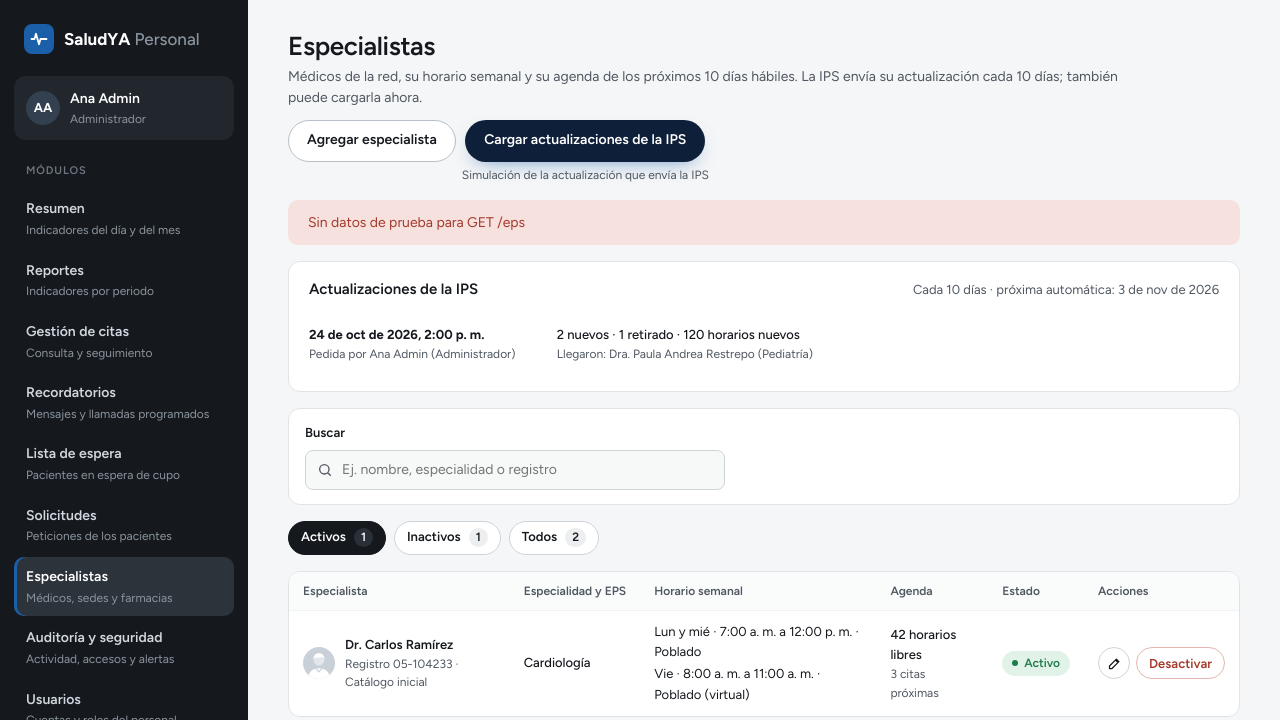
Test: Especialistas › cambia el horario y desactiva con confirmación
This screenshot has width=1280, height=720.
Click the button named "Cambiar el horario de Dr. Carlos Ramírez" at (1114, 663), box [1098,647,1130,679]
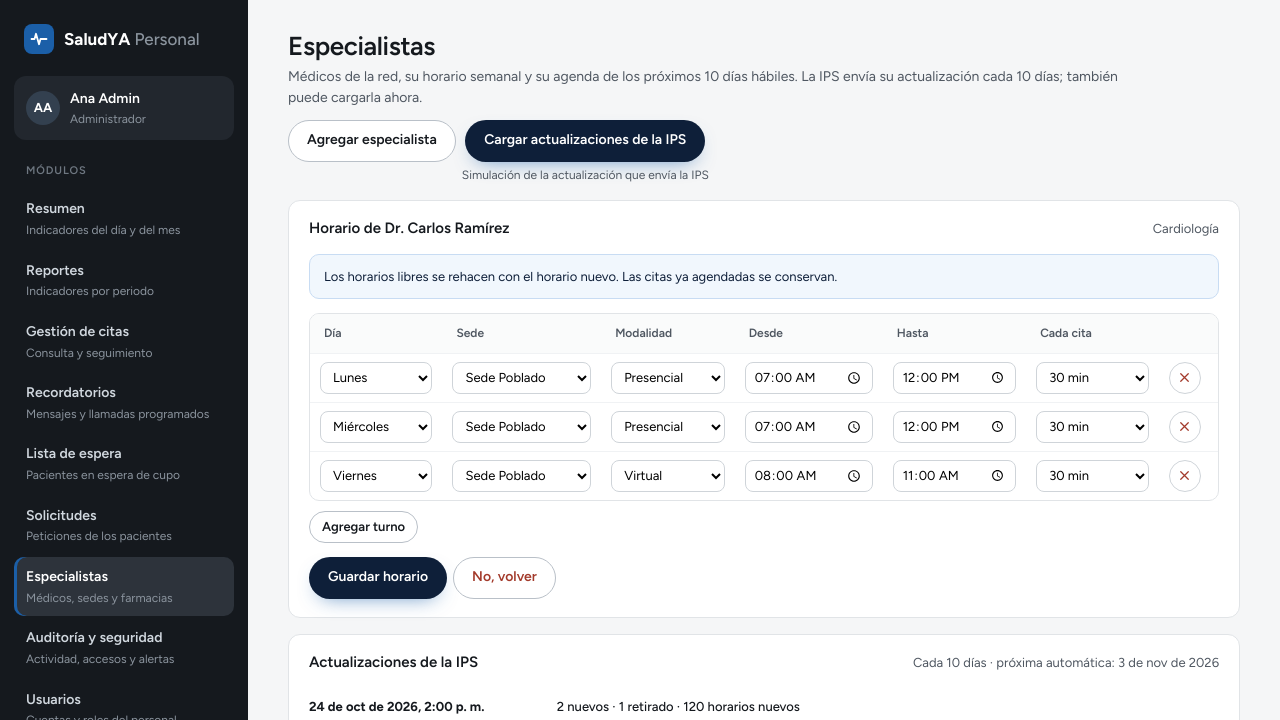
Result: the text "Las citas ya agendadas se conservan" is shown at [324,269,837,284]
Click the button named "Quitar el turno 3" at (1185, 476), box [1169,460,1201,492]
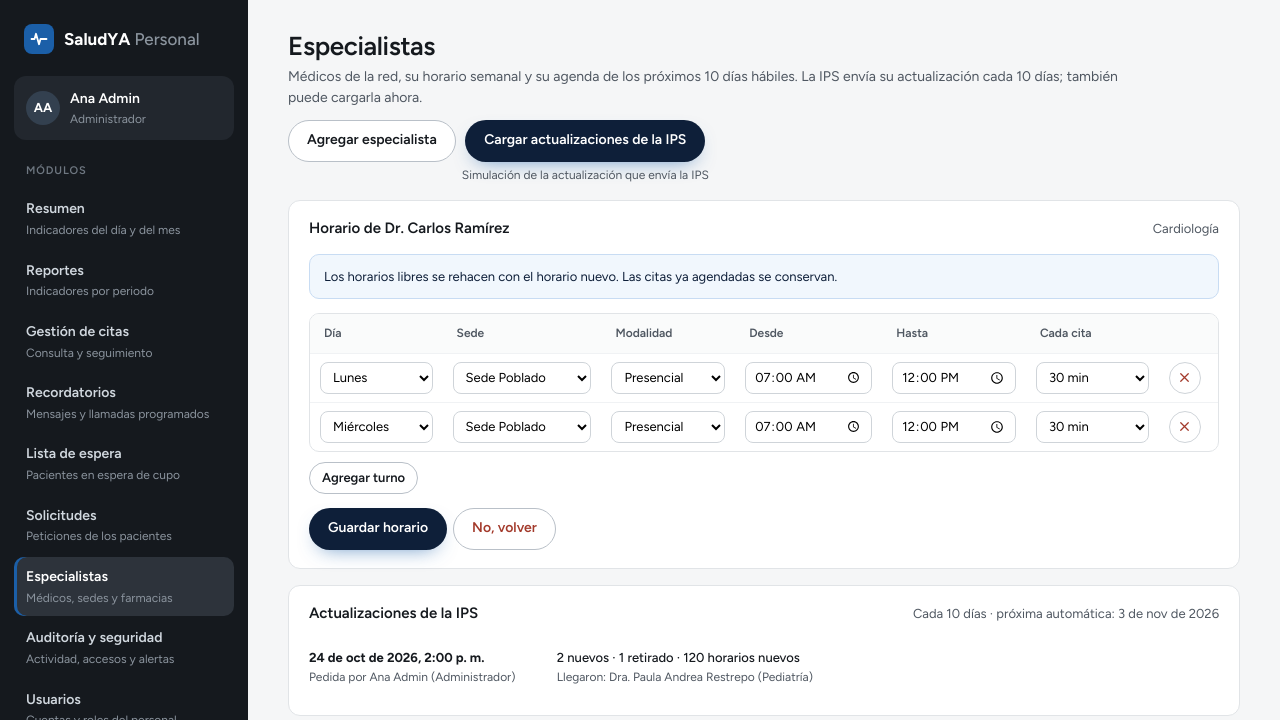
Click the button "Guardar horario" at (378, 529), box [309,508,447,550]
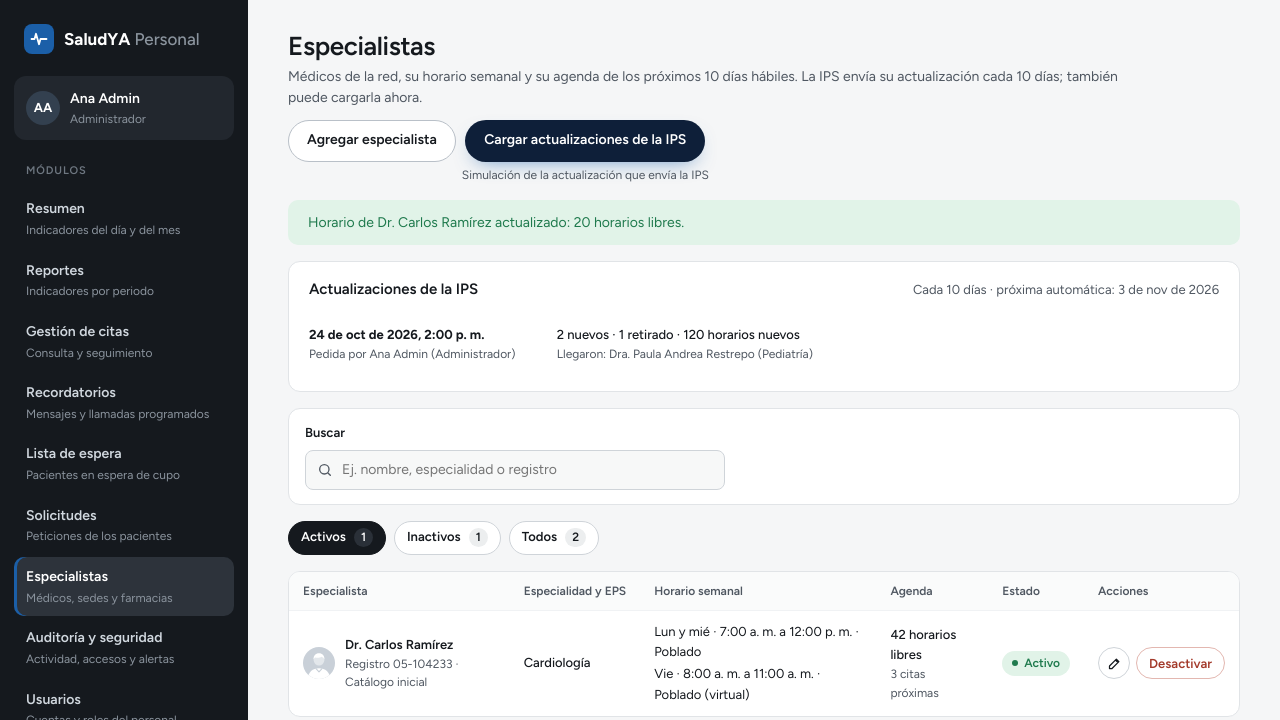
Result: the text "Horario de Dr. Carlos Ramírez actualizado: 20 horarios libres." is shown at [288,200,1240,246]
Click the button with aria-label "Desactivar a Dr. Carlos Ramírez" at (1181, 663), box [1136,647,1225,679]
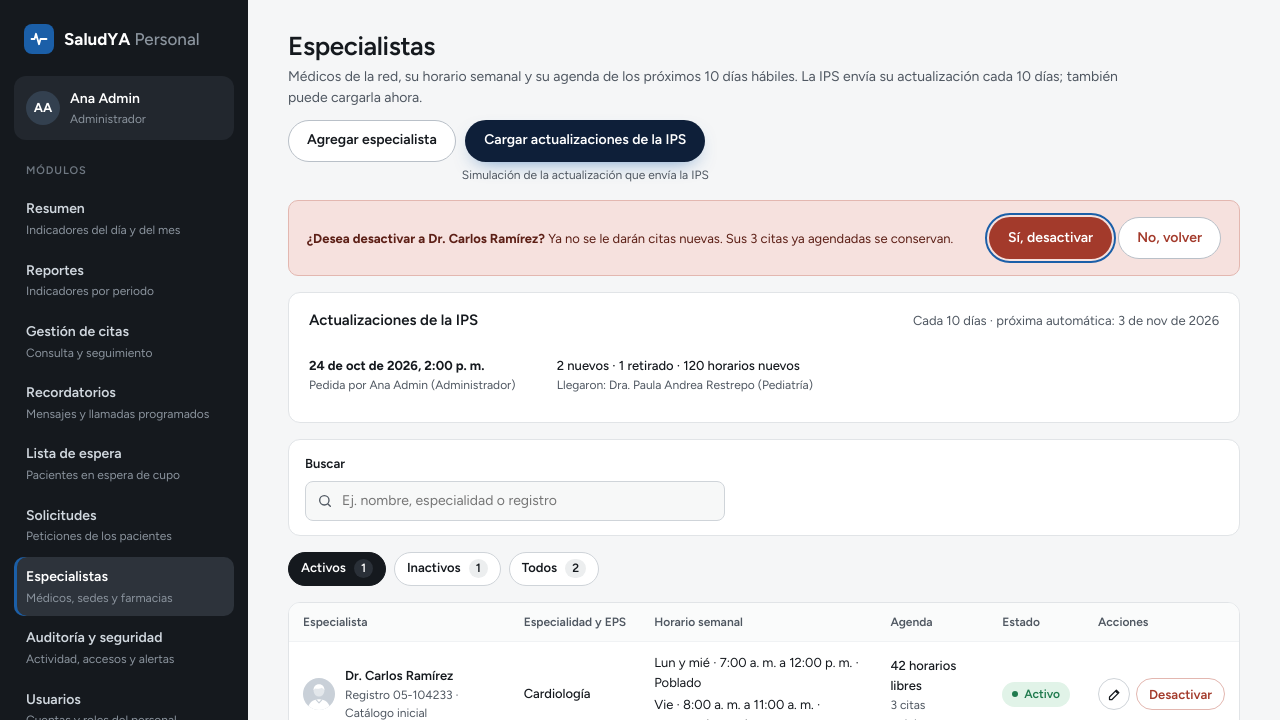
Result: the text "Sus 3 citas ya agendadas se conservan" is shown at [726,231,953,246]
Click the button "Sí, desactivar" at (1051, 238), box [989,218,1112,260]
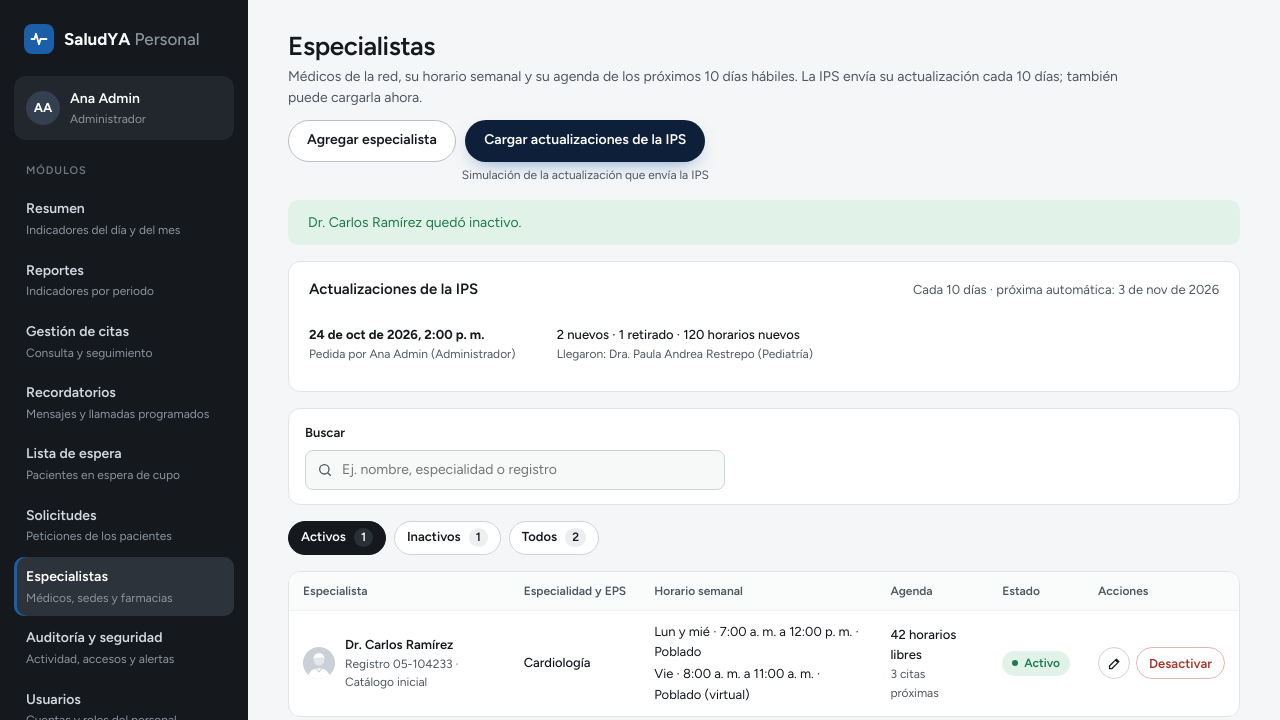
Result: the text "Dr. Carlos Ramírez quedó inactivo." is shown at [288,200,1240,246]
